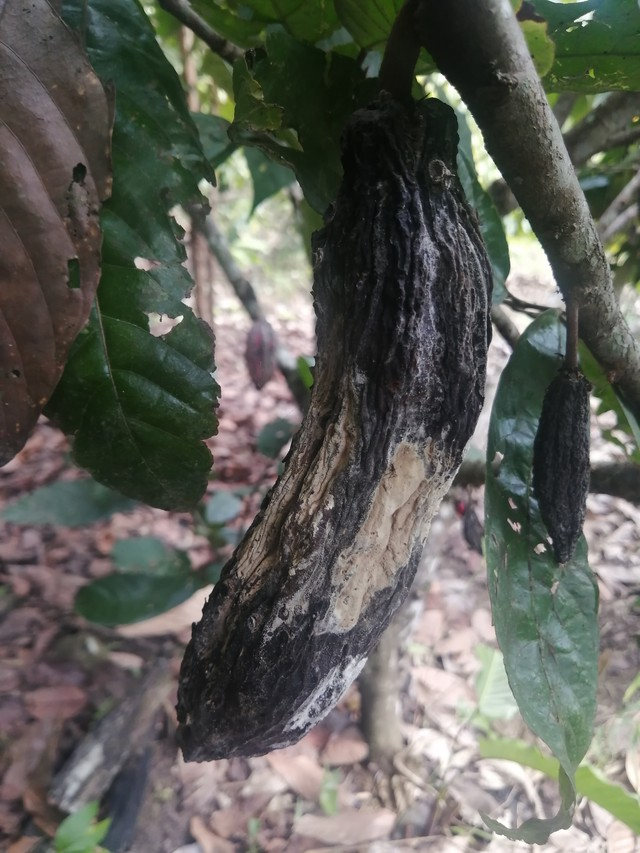moniliophthora roreri: (151, 79, 512, 776), (520, 360, 617, 573)
